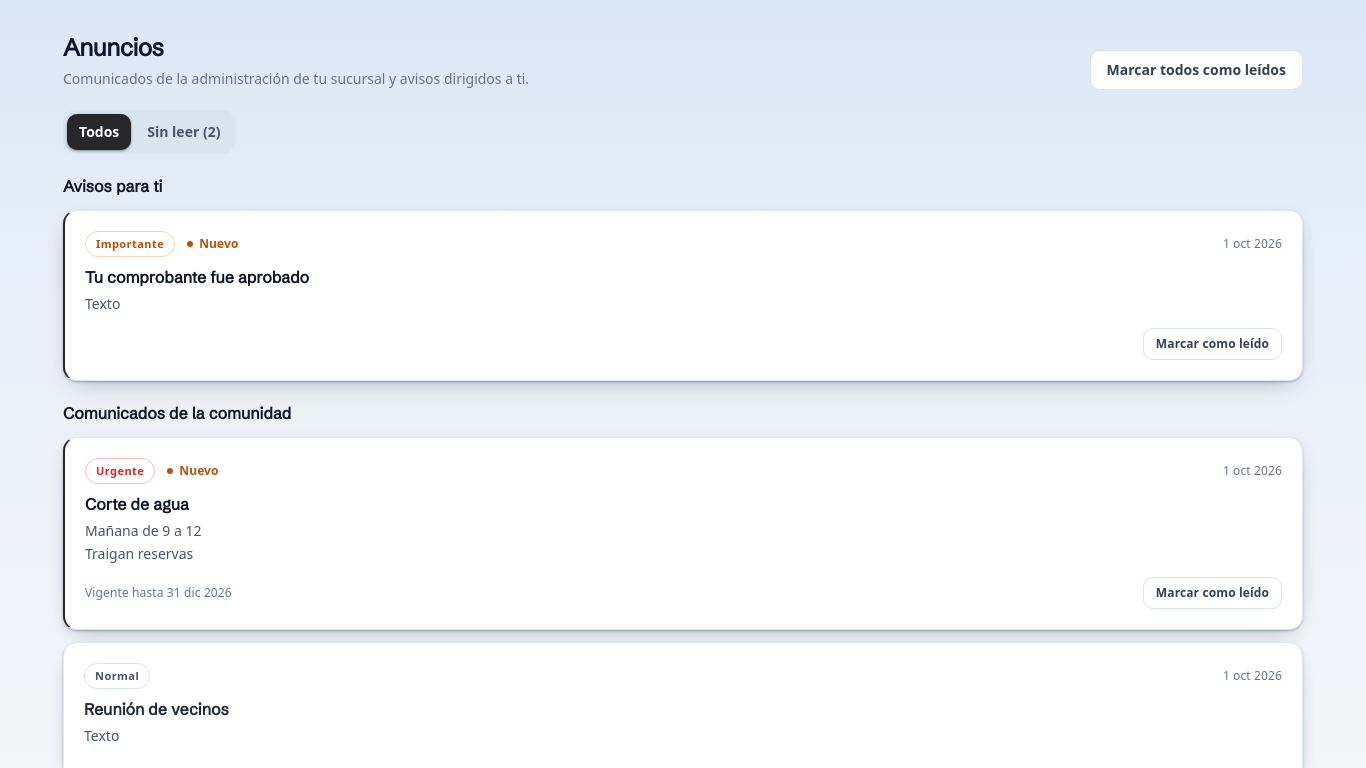
it: MisAnunciosPage › lo no leído se marca «Nuevo» y se puede marcar uno o todos; avisa a la campana
Expected: the heading "Corte de agua" is shown, [85, 494, 189, 514]
Expected: the text "Nuevo" is shown 2 times, [187, 235, 239, 253]; [167, 462, 219, 480]
What coordinates should you click on to do the following:
click the button "Marcar como leído" in the row of "Vigente hasta 31 dic 2026"
I would click on:
 (1212, 593)
Its box is [1143, 577, 1282, 609].
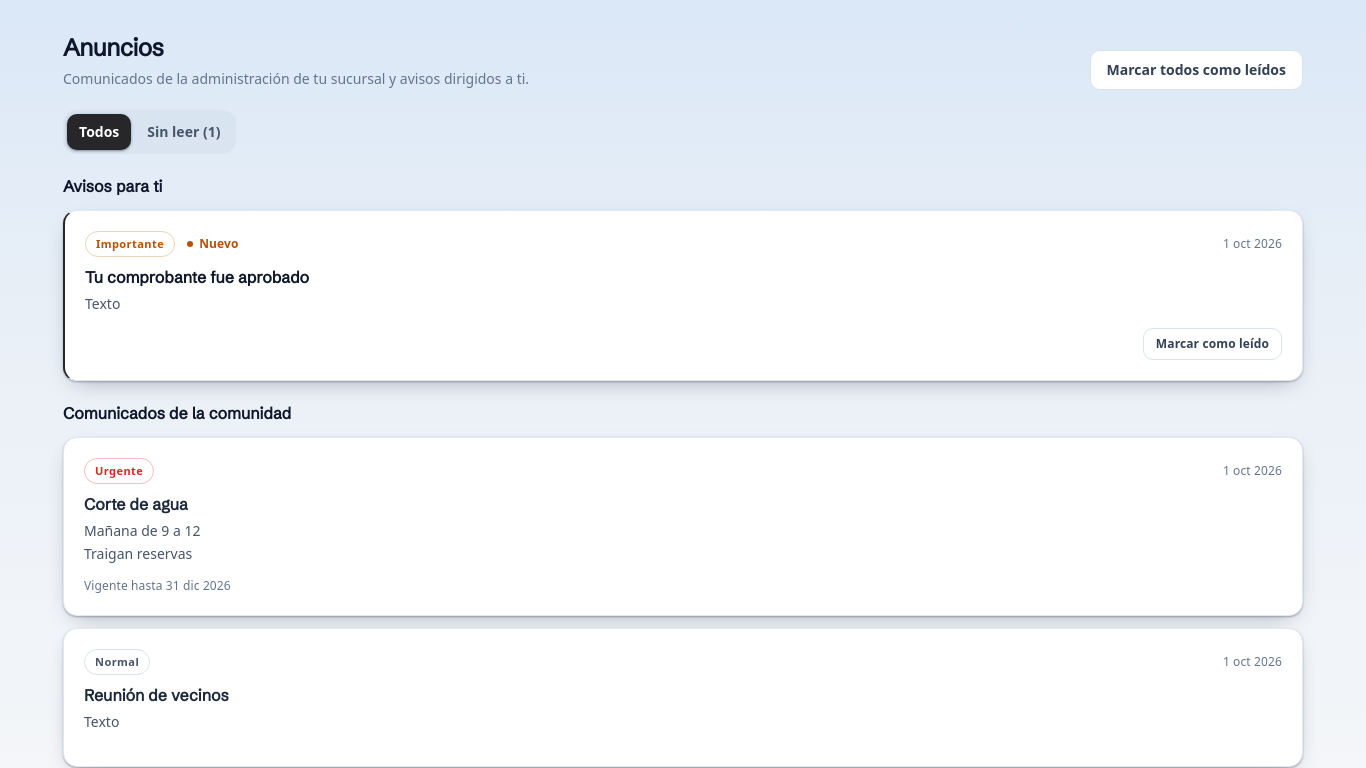
What coordinates should you click on to do the following:
click the button "Marcar todos como leídos"
I would click on:
 (1196, 70)
Its box is [1090, 50, 1303, 90].
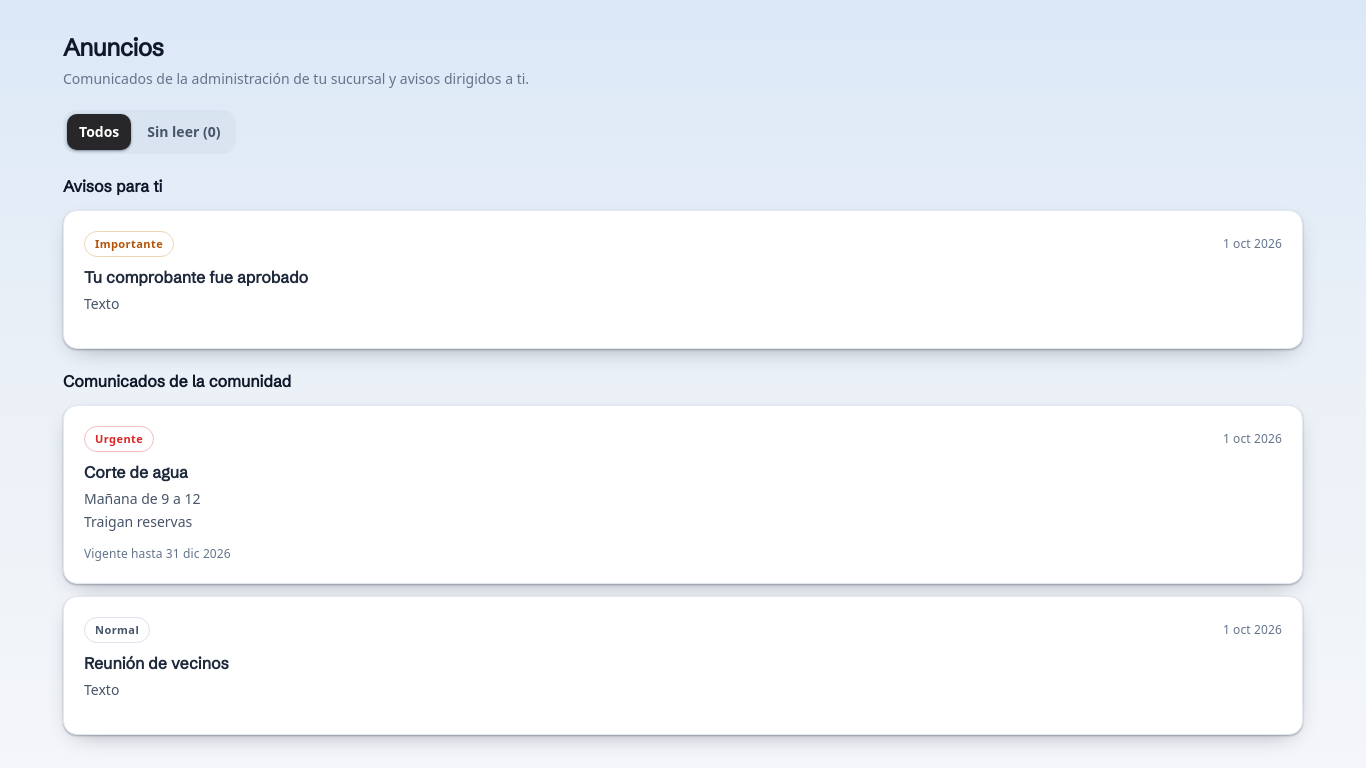
Result: the text "Nuevo" is gone
Result: the button "Marcar todos como leídos" is gone
